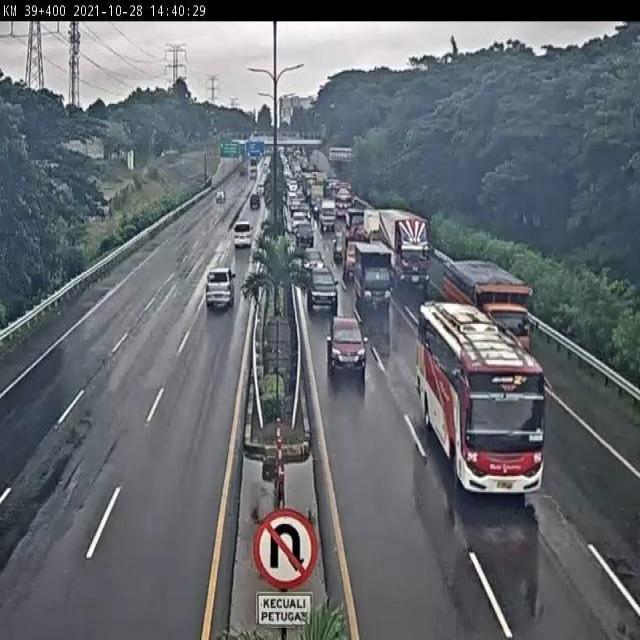big bus: (421, 299, 546, 497)
big truck: (376, 208, 433, 284)
car: (327, 312, 367, 365), (204, 266, 237, 310), (307, 265, 337, 307), (231, 224, 255, 255), (299, 244, 320, 271)
mid truck: (429, 252, 533, 387)
small truck: (353, 239, 392, 305), (340, 224, 372, 277)
